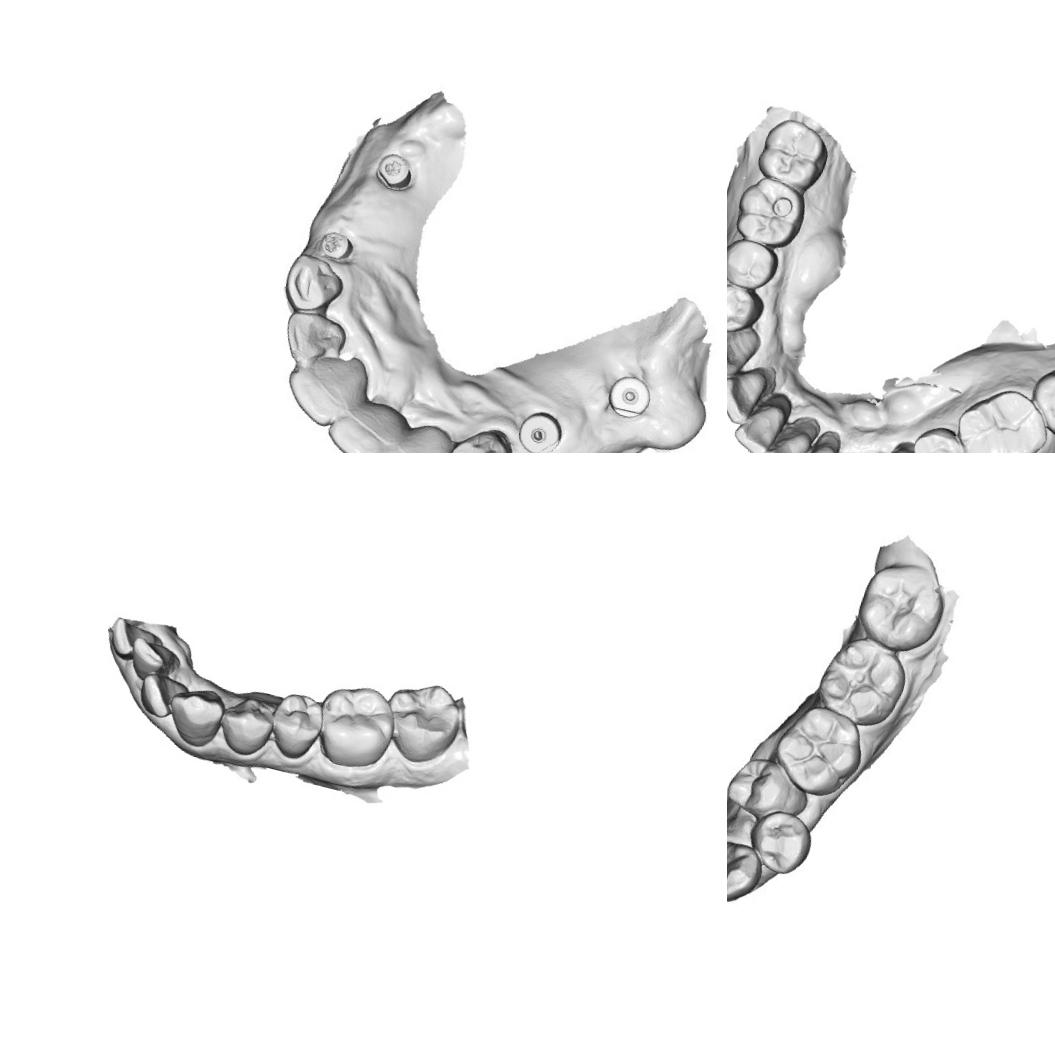canine: (159, 679, 230, 752), (278, 247, 346, 318), (440, 415, 520, 453), (727, 835, 766, 907), (727, 317, 764, 389)
implant: (510, 406, 564, 453), (605, 370, 653, 420), (370, 148, 416, 198), (318, 226, 352, 263)
incisor: (280, 350, 368, 432), (317, 396, 405, 453), (274, 307, 348, 374), (130, 664, 194, 731), (727, 391, 788, 453), (727, 359, 774, 431), (124, 622, 180, 680), (102, 610, 160, 664), (379, 419, 457, 453), (753, 417, 816, 453), (782, 428, 849, 453)
molar: (766, 697, 871, 804), (848, 554, 952, 659), (813, 629, 915, 733), (373, 670, 472, 773), (306, 675, 402, 777), (944, 376, 1055, 453), (728, 170, 812, 254), (752, 110, 834, 196), (1019, 349, 1055, 447)
premolar: (727, 749, 813, 828), (739, 805, 816, 880), (212, 685, 284, 762), (261, 685, 327, 764), (727, 233, 784, 300), (727, 277, 768, 339), (903, 418, 973, 453)
